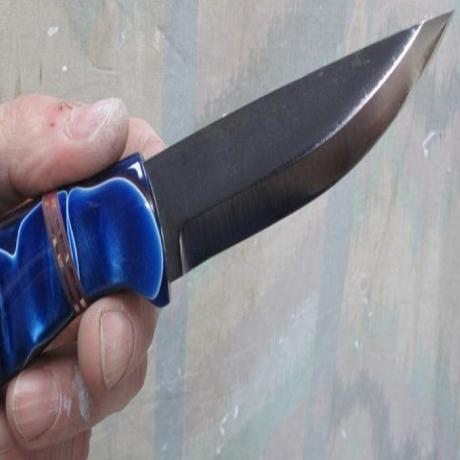weapon: (0, 6, 457, 365), (0, 90, 172, 459)
